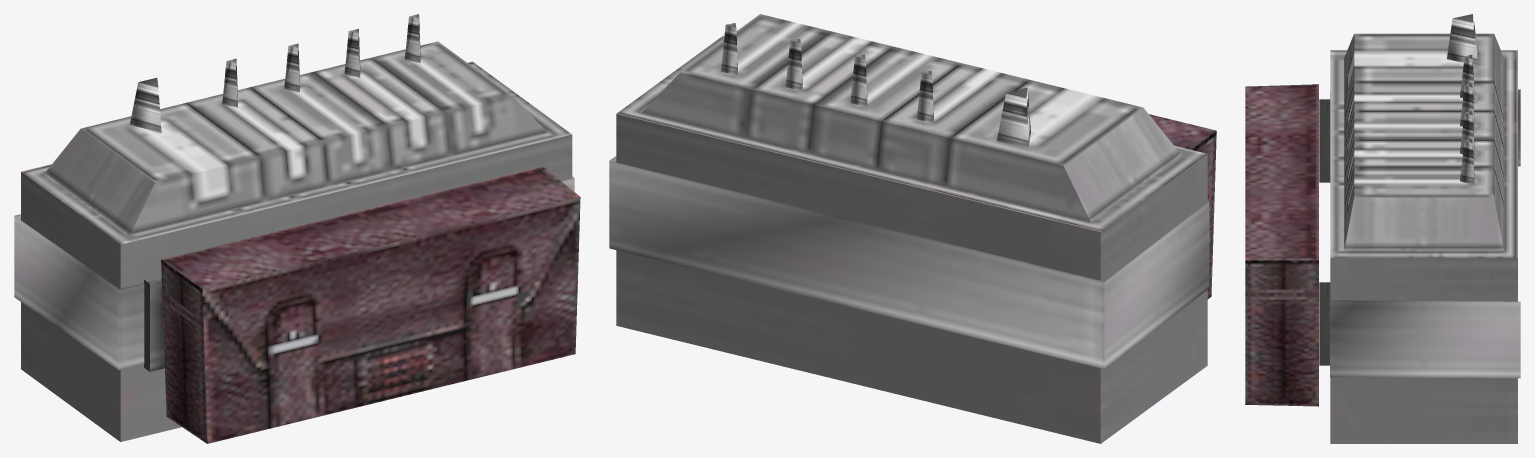
The model's file is eqp_hairdressing_hair_dye_kit_l1.fbx.
3 views of the same model, side by side, from view 1: azimuth 30°, elevation 25°; view 2: azimuth 150°, elevation 25°; view 3: azimuth 270°, elevation 25° (orthographic). The views are drawn at different scales.
Visible parts, largest first — view 1: mesh_node; view 2: mesh_node; view 3: mesh_node.
Part boxes in pixels (<box>): mesh_node: <box>14,14,580,443</box>; mesh_node: <box>609,14,1216,443</box>; mesh_node: <box>1245,14,1520,443</box>.
Size of the model in its own units: 0.4018 by 0.2344 by 0.2207.
